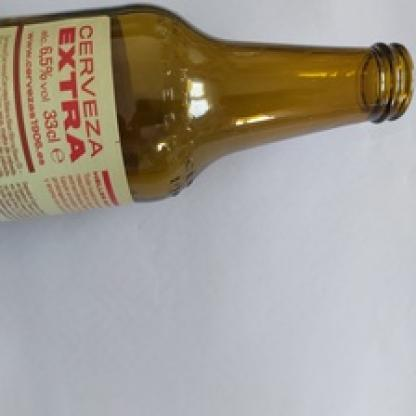Can: (0, 5, 413, 220)
